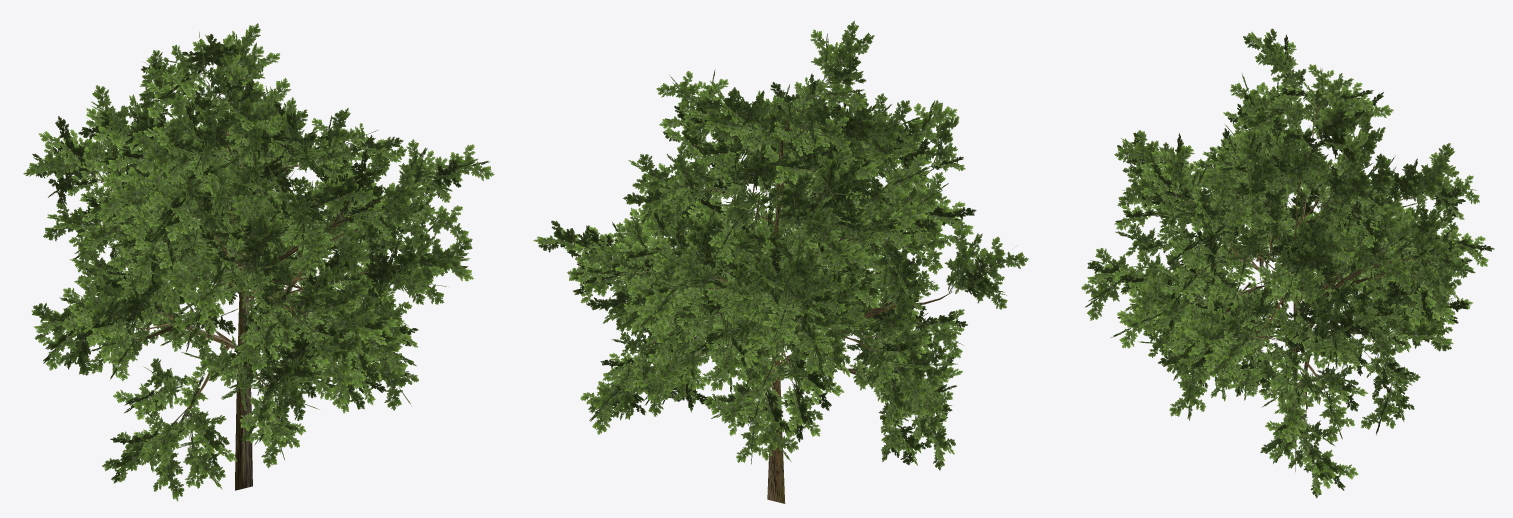
Rendered from ez_oak_a.glb.
3 renders of one model, left to right at view 1: azimuth 30°, elevation 25°; view 2: azimuth 150°, elevation 25°; view 3: azimuth 270°, elevation 25°, orthographic. The views are drawn at different scales.
Visible parts, largest first — view 1: Tree; view 2: Tree; view 3: Tree.
Boxes of the visible parts, <box> form: Tree: <box>23,23,494,501</box>; Tree: <box>533,20,1028,503</box>; Tree: <box>1081,28,1494,497</box>.
Bounding box in the file's own units: 67.34 × 74.08 × 67.17.
2 materials, 2 textured.
